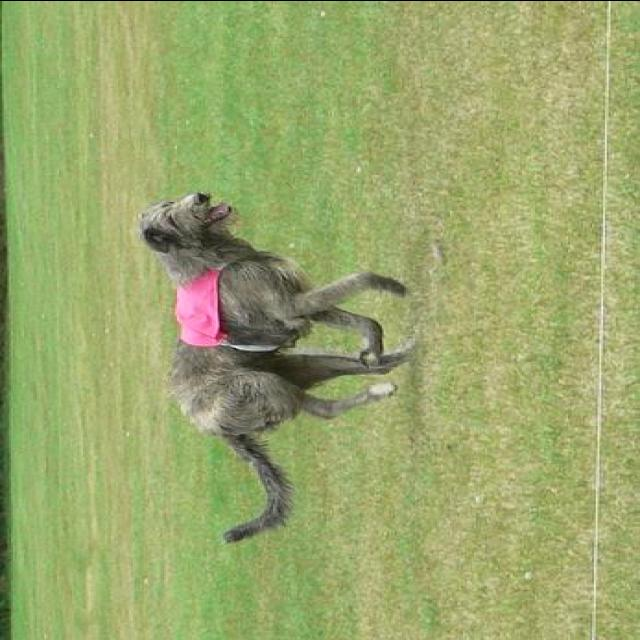irish_wolfhound: (125, 190, 422, 550)
